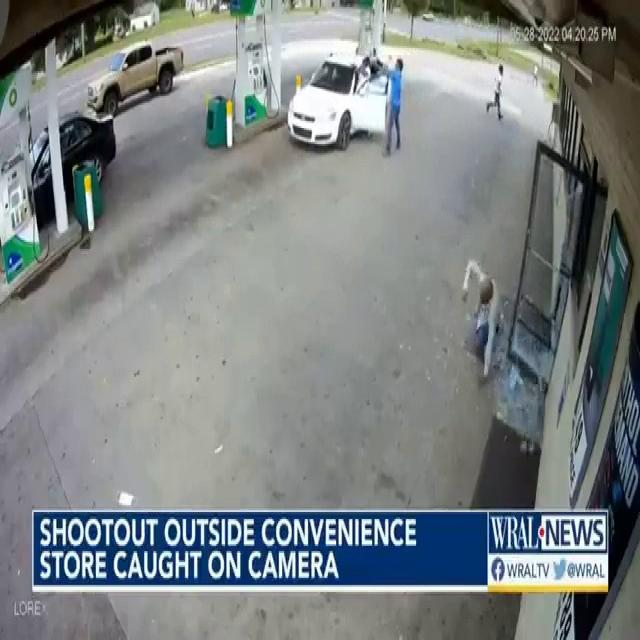penembakan: (370, 55, 409, 167)
